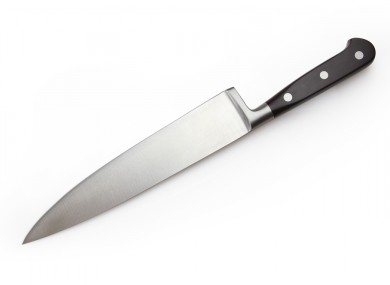knife: (21, 38, 375, 248)
